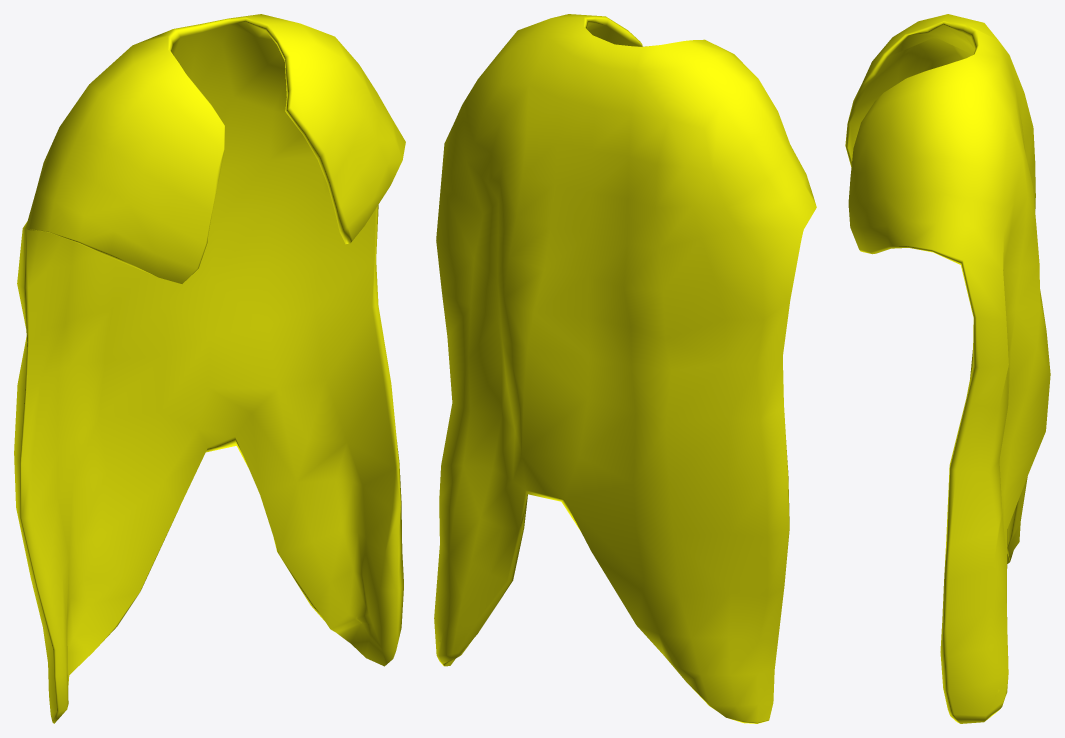
File: cloak.fbx
The picture shows the model from 3 angles, left to right: view 1: azimuth 30°, elevation 25°; view 2: azimuth 150°, elevation 25°; view 3: azimuth 270°, elevation 25°; orthographic projection. The views are drawn at different scales.
Visible parts, largest first — view 1: cloak; view 2: cloak; view 3: cloak.
Part boxes in pixels (x1,y1,x2,y2): cloak: (14, 14, 405, 723); cloak: (434, 14, 816, 723); cloak: (845, 14, 1050, 723).
Bounding box in the file's own units: 2.67 × 4.69 × 1.44.
